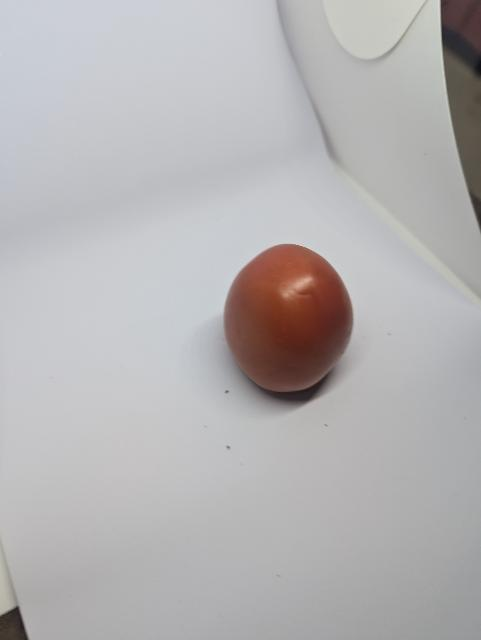red: (224, 241, 355, 398)
